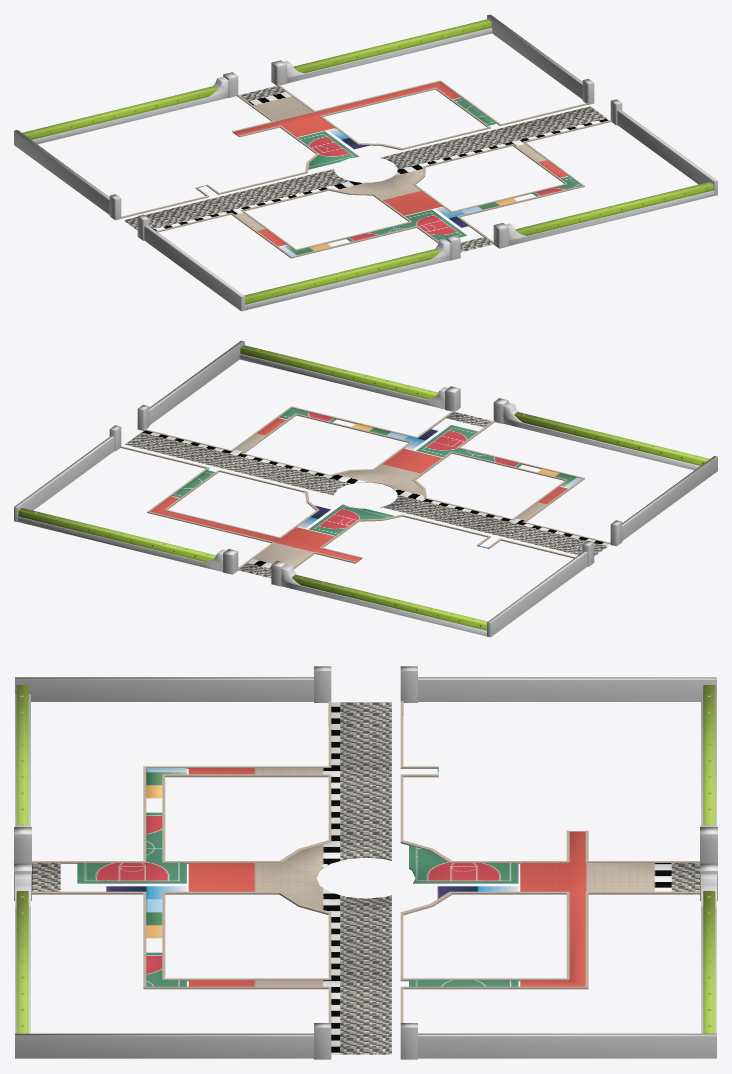
The model's file is Taman.fbx.
3 renders of one model, top to bottom at view 1: azimuth 30°, elevation 25°; view 2: azimuth 150°, elevation 25°; view 3: azimuth 270°, elevation 25°, orthographic. The views are drawn at different scales.
Parts seen in each view (by area): view 1: JalanSetapak_LOD0, WallTumbuhanKananKiri_LOD0, WallDepanBelakang_LOD0, JalanSetapak1_LOD0, WallKananKiri_LOD0, Gapura1_LOD0, Gapura2_LOD0; view 2: JalanSetapak_LOD0, WallTumbuhanKananKiri_LOD0, WallDepanBelakang_LOD0, WallKananKiri_LOD0, JalanSetapak1_LOD0, Gapura1_LOD0, Gapura2_LOD0; view 3: JalanSetapak_LOD0, WallDepanBelakang_LOD0, JalanSetapak1_LOD0, WallTumbuhanKananKiri_LOD0, WallKananKiri_LOD0, Gapura2_LOD0, Gapura1_LOD0.
Boxes of the visible parts, bbox=[...] form: JalanSetapak_LOD0: bbox=[124, 82, 609, 256]; WallTumbuhanKananKiri_LOD0: bbox=[22, 19, 713, 304]; WallDepanBelakang_LOD0: bbox=[14, 14, 717, 311]; JalanSetapak1_LOD0: bbox=[121, 80, 611, 258]; WallKananKiri_LOD0: bbox=[32, 28, 714, 310]; Gapura1_LOD0: bbox=[223, 60, 508, 260]; Gapura2_LOD0: bbox=[109, 78, 622, 240]; JalanSetapak_LOD0: bbox=[125, 408, 610, 578]; WallTumbuhanKananKiri_LOD0: bbox=[18, 345, 709, 630]; WallDepanBelakang_LOD0: bbox=[14, 340, 717, 637]; WallKananKiri_LOD0: bbox=[17, 354, 699, 636]; JalanSetapak1_LOD0: bbox=[120, 406, 610, 569]; Gapura1_LOD0: bbox=[223, 386, 508, 586]; Gapura2_LOD0: bbox=[109, 404, 622, 566]; JalanSetapak_LOD0: bbox=[32, 702, 699, 1054]; WallDepanBelakang_LOD0: bbox=[15, 677, 716, 1058]; JalanSetapak1_LOD0: bbox=[32, 701, 699, 1022]; WallTumbuhanKananKiri_LOD0: bbox=[16, 685, 715, 1033]; WallKananKiri_LOD0: bbox=[15, 694, 716, 1033]; Gapura2_LOD0: bbox=[314, 666, 417, 1059]; Gapura1_LOD0: bbox=[14, 827, 717, 900].
Size of what is drawn, in the model's own units: 12583 by 524 by 10367.
